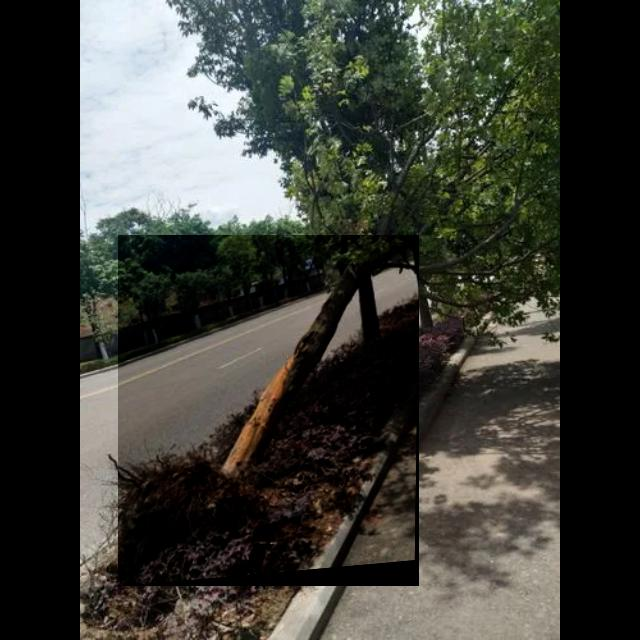Fallen Tree: (118, 235, 420, 587)
